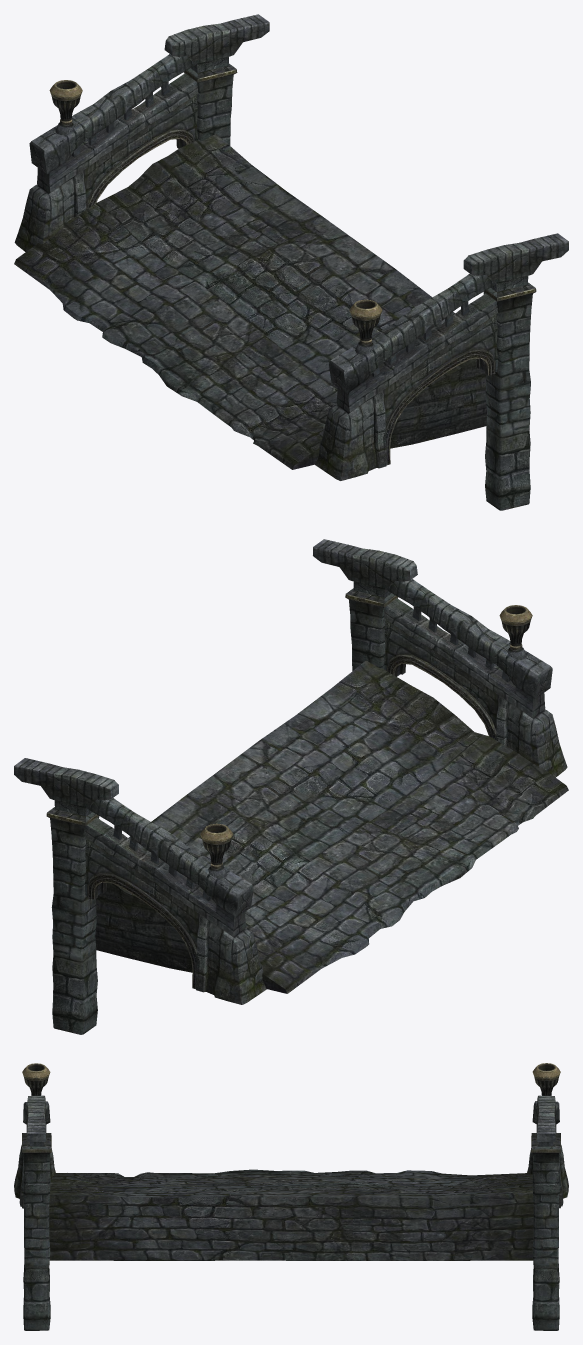
File: Stone_Bridge.fbx
3 renders of one model, top to bottom at view 1: azimuth 30°, elevation 25°; view 2: azimuth 150°, elevation 25°; view 3: azimuth 270°, elevation 25°, orthographic. The views are drawn at different scales.
Visible parts, largest first — view 1: Stone_Bridge; view 2: Stone_Bridge; view 3: Stone_Bridge.
Boxes of the visible parts, left/top/right/bottom form: Stone_Bridge: left=14, top=14, right=568, bottom=510; Stone_Bridge: left=14, top=539, right=568, bottom=1034; Stone_Bridge: left=14, top=1063, right=568, bottom=1330.
Bounding box in the file's own units: 380 × 343 × 797.
1 material, 1 textured.
